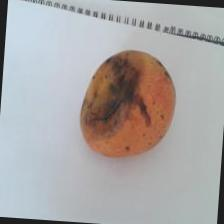Mango Rotten: (76, 41, 180, 165)
